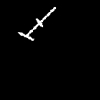double_crochet: (19, 7, 55, 40)
